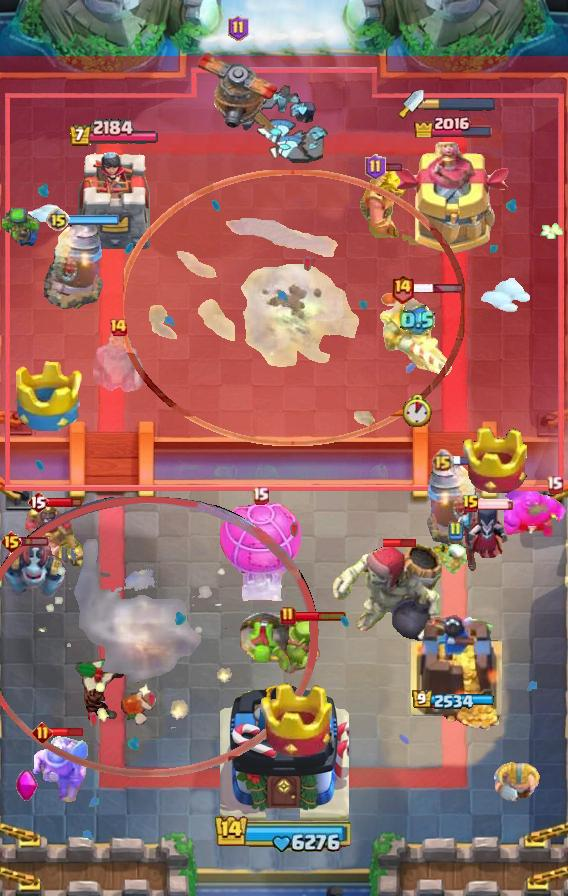bandit: (28, 734, 90, 804)
bar: (394, 142, 512, 256)
bar-level: (239, 611, 293, 673)
cannon-cart: (216, 496, 304, 604)
clock: (214, 813, 354, 853)
dark-prince: (189, 46, 287, 128)
electro-giant: (330, 541, 446, 651)
electro-spirit: (400, 305, 435, 336)
elixir: (403, 393, 432, 426)
elixir-golem-small: (0, 539, 68, 601)
emote: (293, 610, 346, 622), (412, 283, 464, 294), (68, 215, 120, 225), (477, 498, 515, 510), (13, 536, 51, 548), (46, 496, 82, 508), (382, 537, 417, 549), (50, 726, 85, 738), (450, 454, 469, 466), (384, 162, 404, 172)
flying-machine: (269, 616, 325, 674)
freeze: (23, 503, 89, 575)
giant-snowball: (2, 208, 44, 248)
goblin-giant: (493, 761, 541, 804)
goblin-hut: (354, 163, 426, 251)
heal-spirit: (438, 544, 472, 574)
king-tower: (219, 678, 349, 826)
king-tower-bar: (424, 97, 496, 111)
magic-archer: (44, 218, 104, 310), (426, 457, 486, 549)
mortar-evolution: (90, 331, 146, 397)
queen-tower: (403, 613, 506, 731), (71, 144, 157, 255)
ram-rider: (378, 289, 456, 379)
rascal-boy: (454, 500, 510, 576)
royal-ghost: (123, 170, 465, 446), (0, 497, 318, 777)
selected: (68, 120, 160, 149), (414, 113, 495, 139), (413, 689, 496, 711)
skeleton-king-skill: (15, 769, 39, 803)
text: (390, 273, 415, 304), (46, 208, 70, 232), (430, 448, 454, 472), (1, 530, 24, 554), (227, 15, 248, 41), (366, 154, 387, 180), (27, 490, 49, 514), (32, 721, 53, 742), (108, 317, 128, 337), (462, 494, 480, 514), (545, 475, 563, 494), (251, 486, 268, 505), (447, 521, 463, 541), (280, 606, 296, 626)
tornado: (504, 489, 568, 539)
